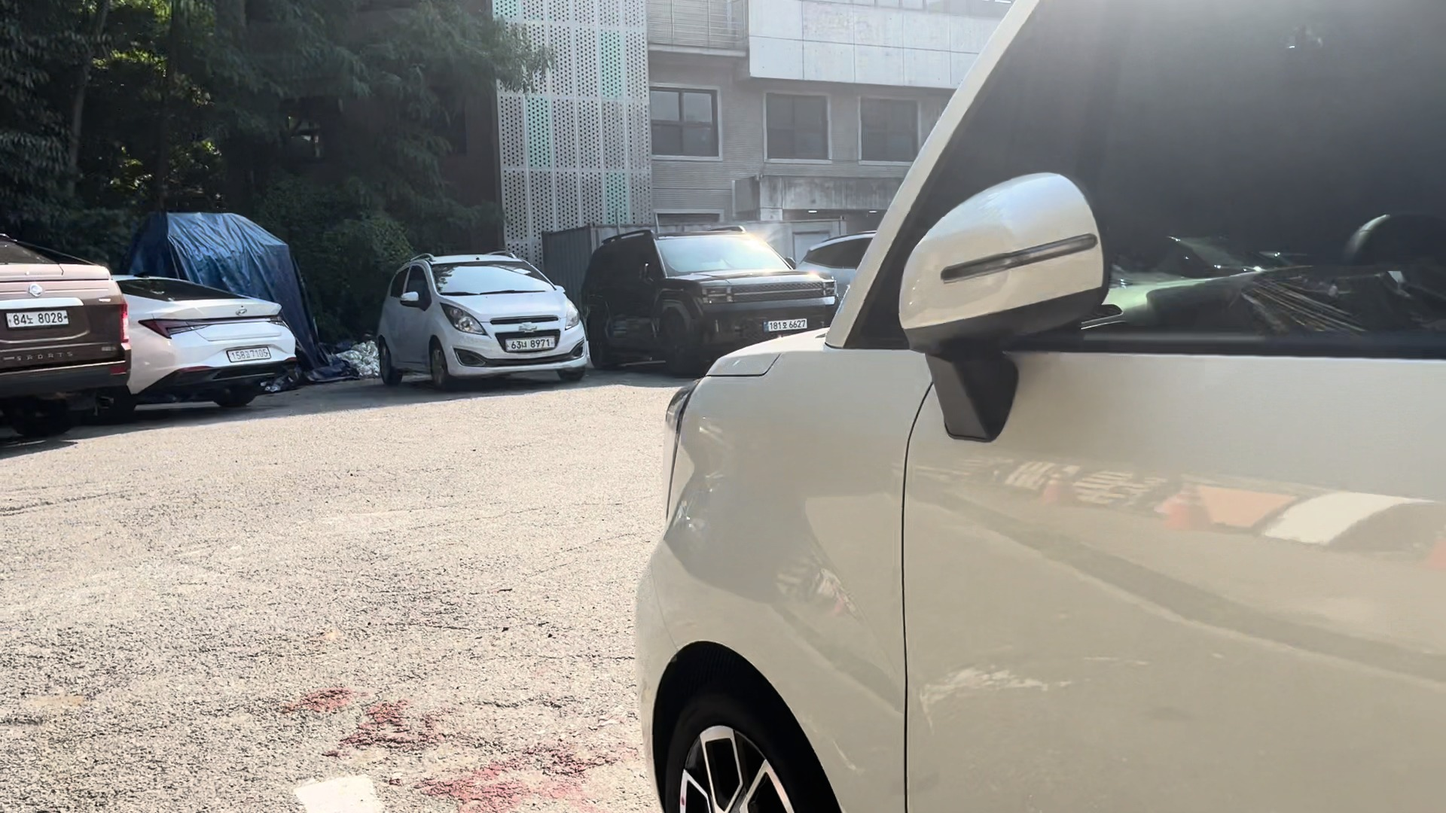license_plate: (7, 309, 68, 328), (504, 337, 556, 352)
side_mirror: (903, 172, 1106, 349)
